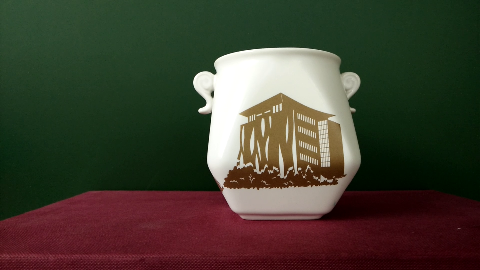library: (223, 95, 340, 188)
